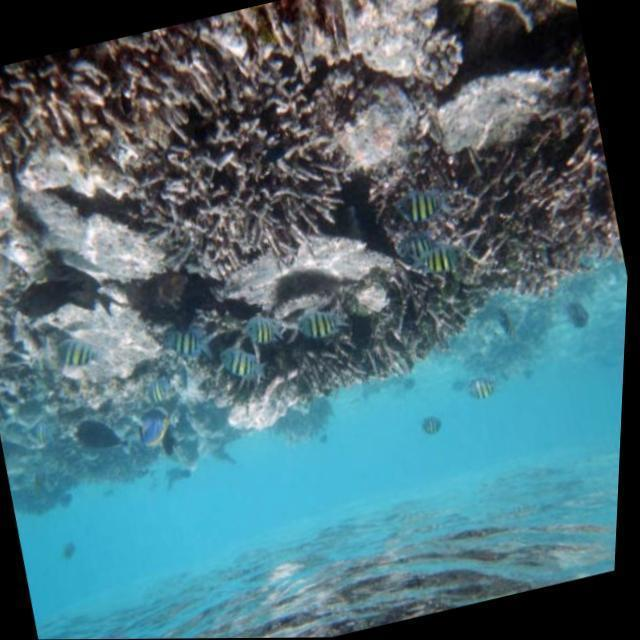Dead Coral: (126, 65, 370, 298), (445, 115, 632, 302), (0, 29, 190, 196), (284, 274, 496, 412)
